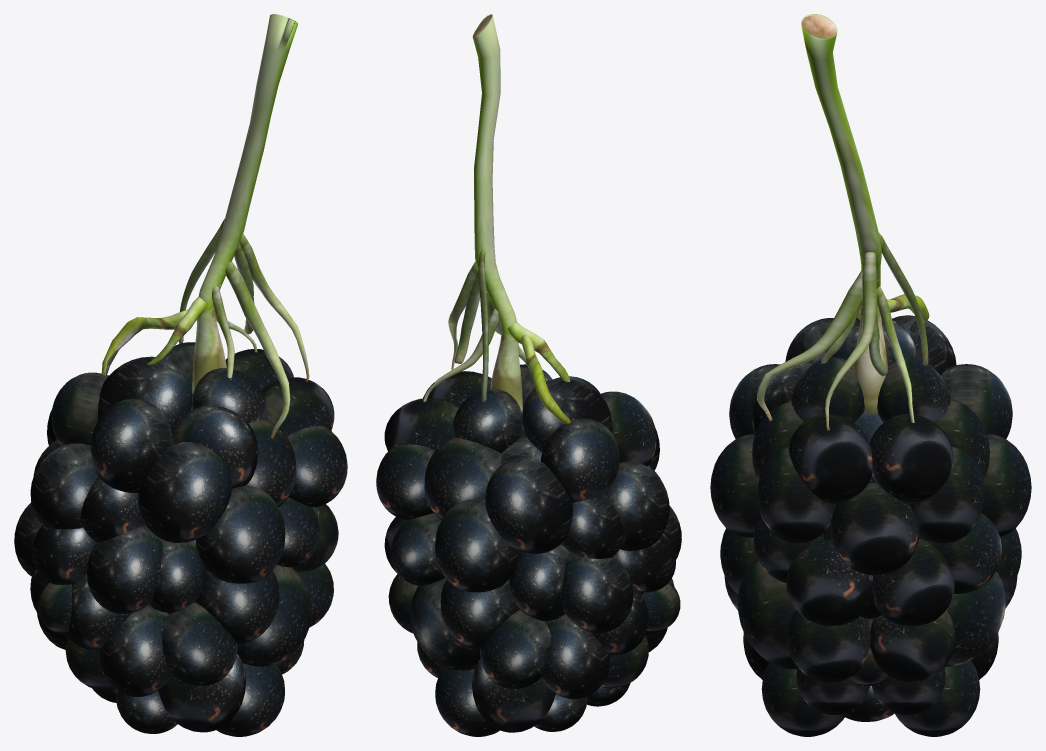
The model's file is blackberries.glb.
3 views of the same model, side by side, from view 1: azimuth 30°, elevation 25°; view 2: azimuth 150°, elevation 25°; view 3: azimuth 270°, elevation 25° (orthographic). The views are drawn at different scales.
Parts seen in each view (by area): view 1: Material-material, Material_001-material; view 2: Material-material, Material_001-material; view 3: Material-material, Material_001-material.
Part boxes in pixels (<box>): Material-material: <box>14,342,347,736</box>; Material_001-material: <box>101,14,309,438</box>; Material-material: <box>376,364,681,736</box>; Material_001-material: <box>423,14,570,424</box>; Material-material: <box>710,315,1031,736</box>; Material_001-material: <box>756,14,929,430</box>.
Size of the model in its own units: 1.94 by 4.46 by 1.76.
2 materials, 2 textured.
